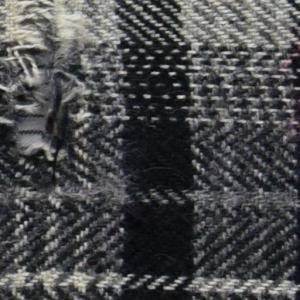Damage: (1, 1, 117, 228)
